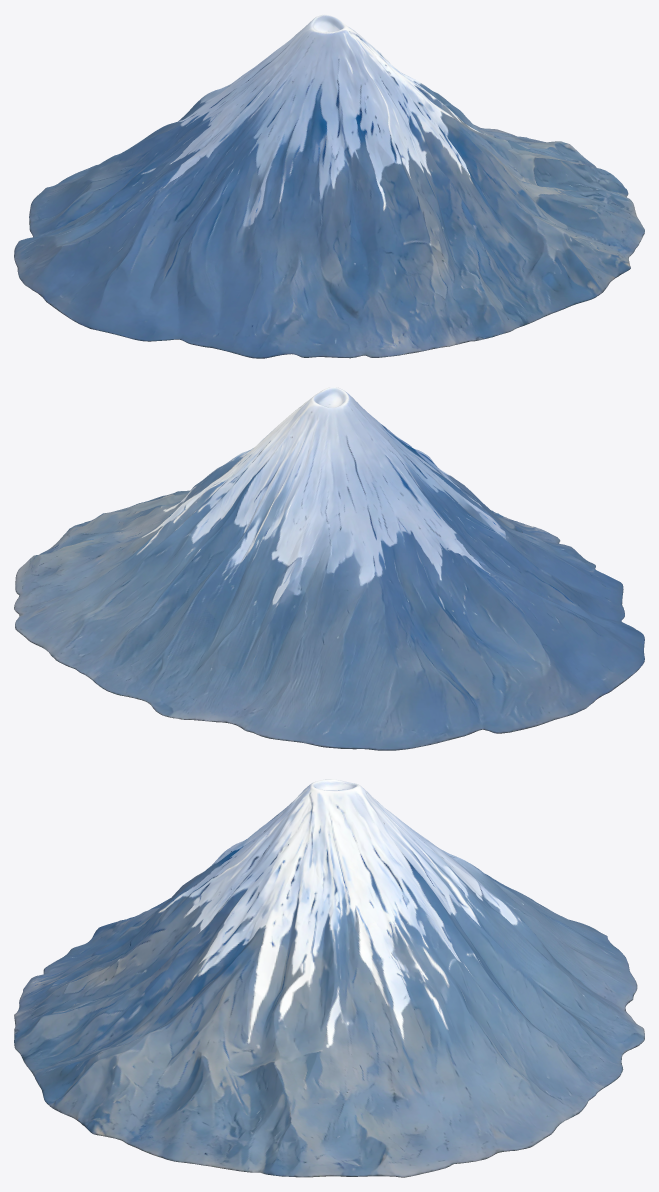
The model's file is mountain_custom.glb.
3 renders of one model, top to bottom at view 1: azimuth 30°, elevation 25°; view 2: azimuth 150°, elevation 25°; view 3: azimuth 270°, elevation 25°, orthographic. The views are drawn at different scales.
Visible parts, largest first — view 1: model.001; view 2: model.001; view 3: model.001.
Part boxes in pixels (<box>): model.001: <box>14,14,644,358</box>; model.001: <box>14,387,644,750</box>; model.001: <box>14,779,644,1177</box>.
Bounding box in the file's own units: 10.72 × 4.02 × 9.41.
Materials: 1 (1 with a texture image).
